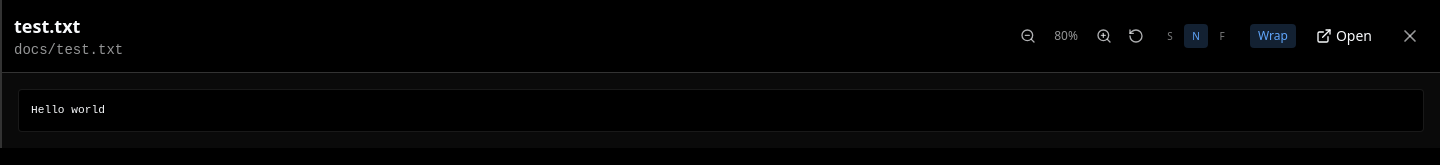
it: PreviewPanel zoom controls › zoom out button decreases zoom
Click the button named "Zoom out": (1028, 36) [1014,22,1042,50]
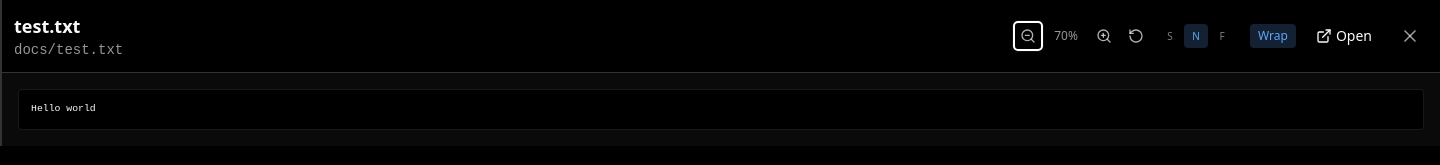
Click the button named "Zoom out": (1028, 36) [1014,22,1042,50]
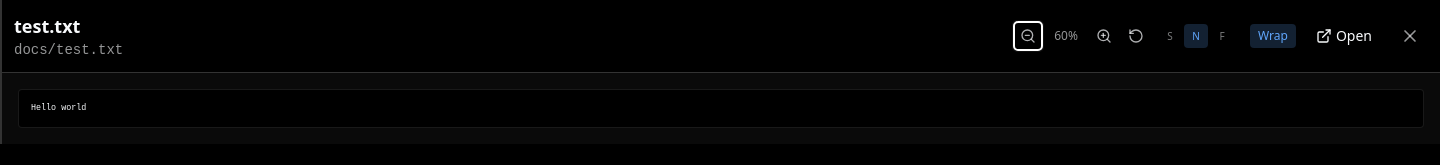
Now the text "60%" is shown, box [1054,27,1078,44]
